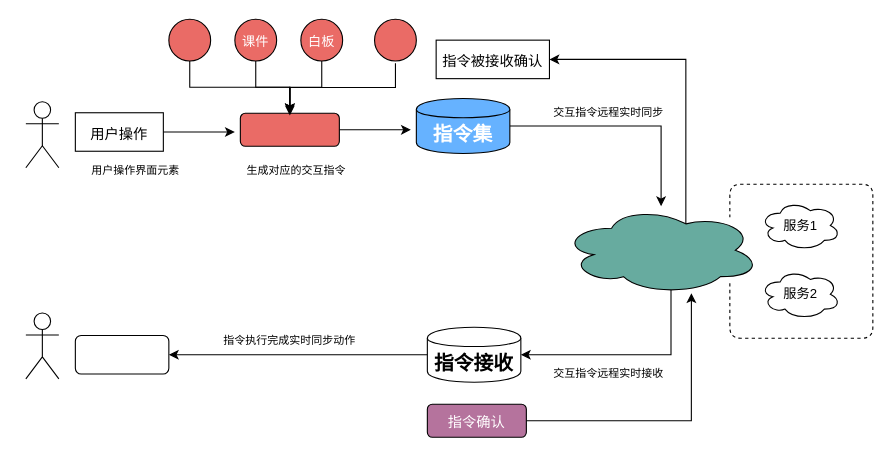
Some shapes in this 893 by 457 pixel diagram are drawn without their labels. Here are the shapes that lost their labels. From the top down, the box of each, then its label:
(239, 112, 339, 146): 界面交互
(561, 205, 760, 294): 多个 WebSocket 服务
(74, 334, 169, 374): 指令执行
